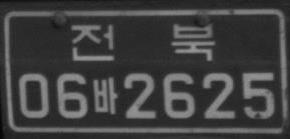0: (18, 71, 49, 118)
2: (202, 71, 235, 119), (123, 72, 155, 119)
5: (241, 70, 276, 120)
6: (162, 71, 196, 119), (55, 71, 88, 119)
바: (92, 75, 118, 115)
전북_D: (71, 20, 215, 60)
